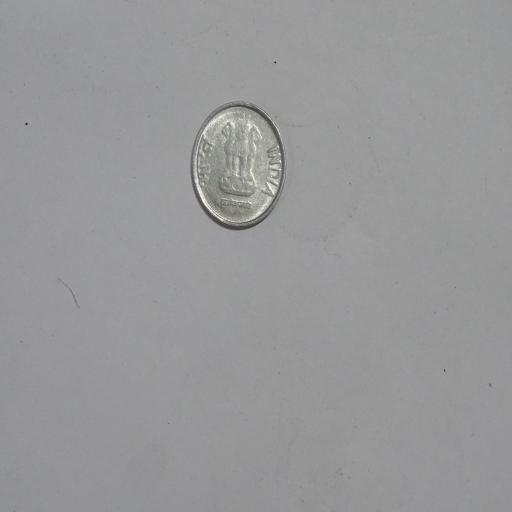rupee1: (190, 102, 287, 229)
